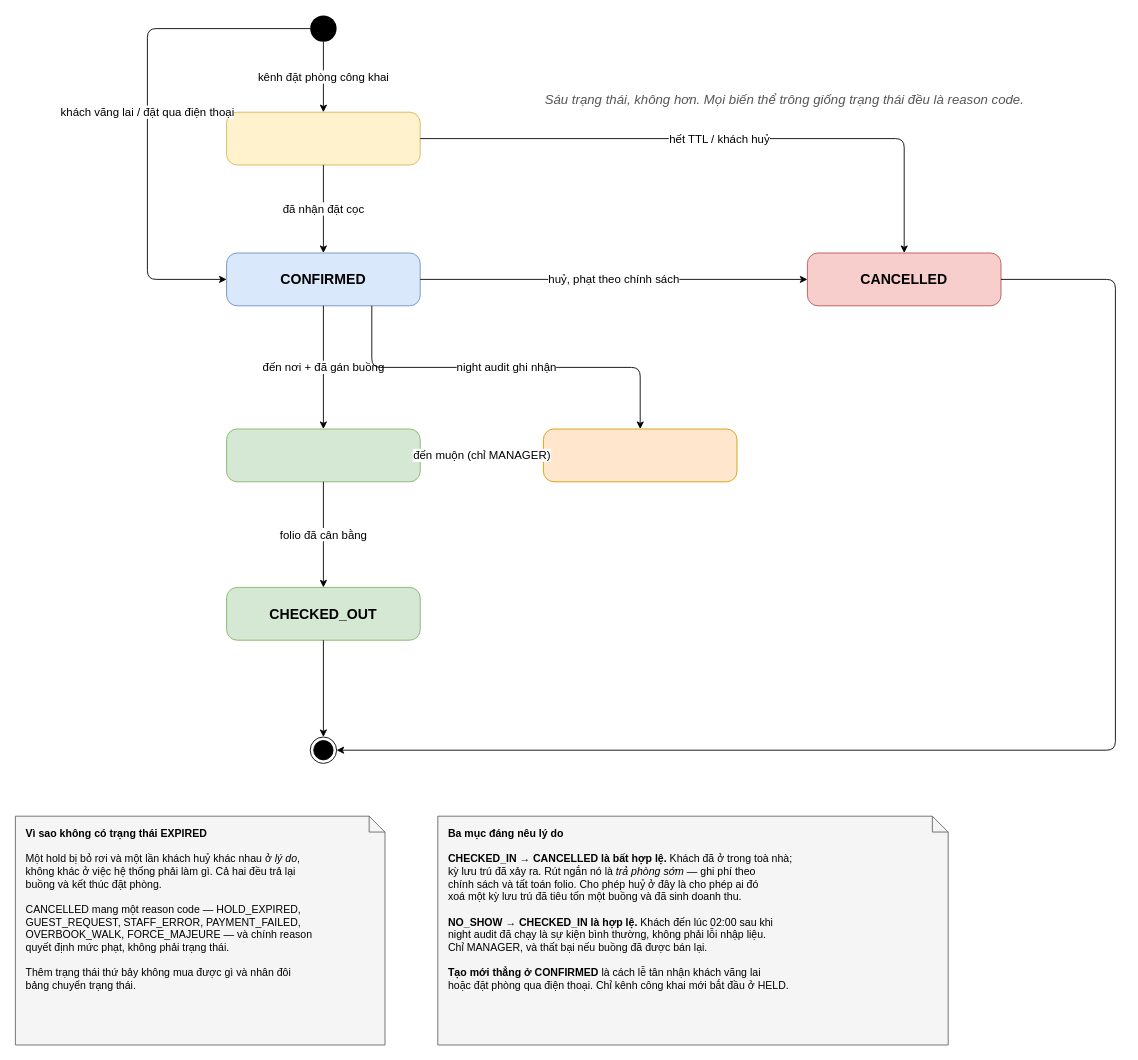
The diagram is 1138 pixels wide and 1060 high, and some of its shapes have lost their labels. The centre of each missing label's shape, as x and y in pixels:
"CHECKED_IN" belongs at point (323, 455).
"HELD" belongs at point (323, 138).
"NO_SHOW" belongs at point (640, 455).
